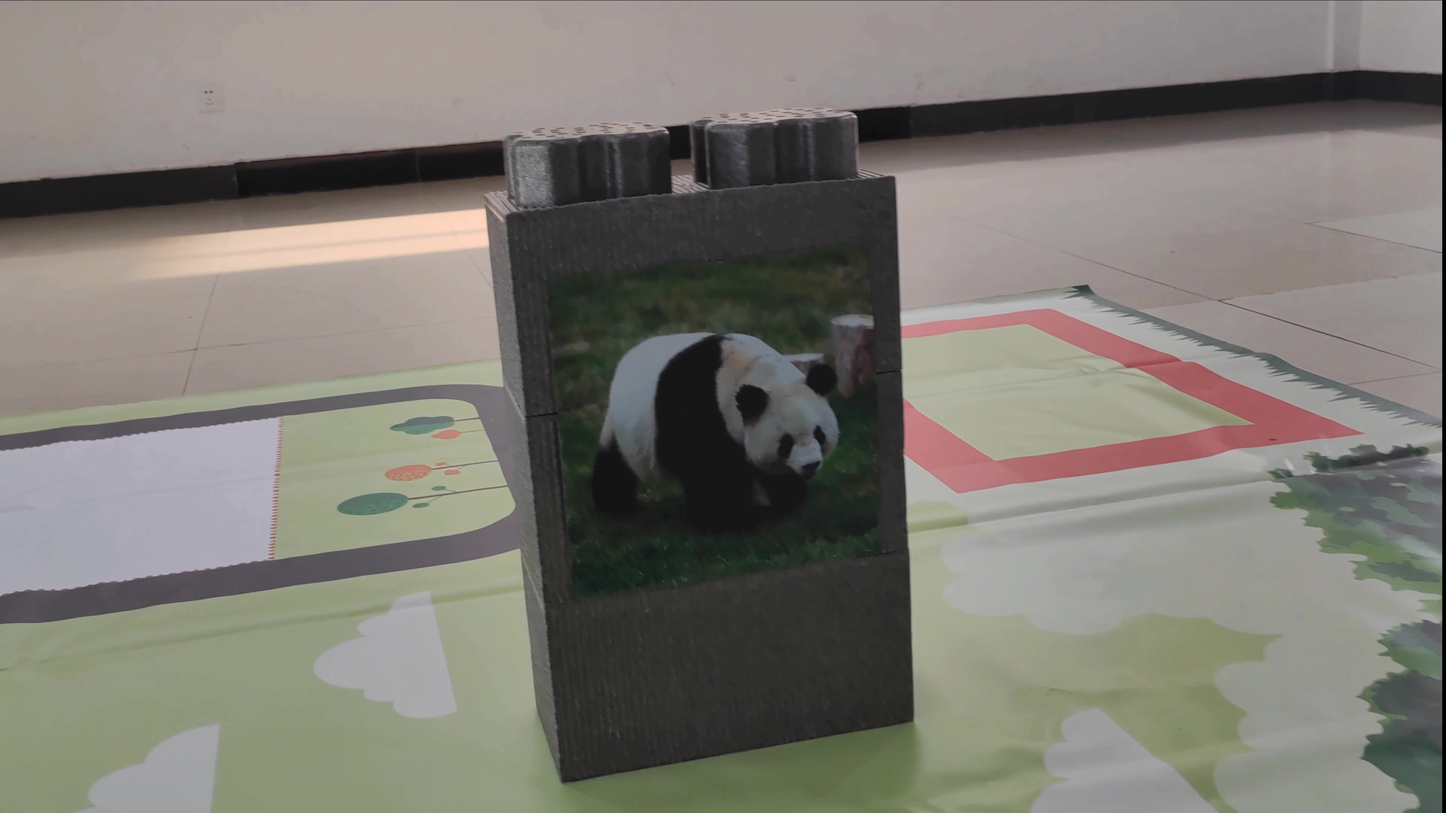panda: (591, 310, 859, 537)
